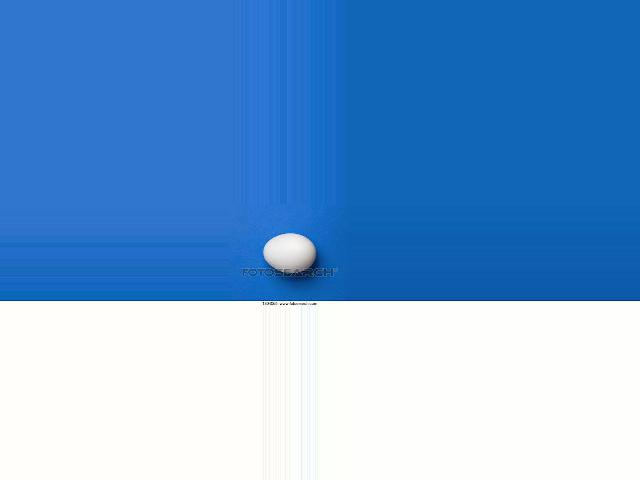egg: (263, 233, 316, 274)
